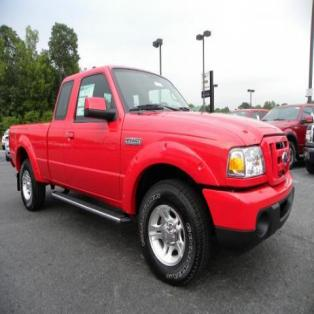Auto: (8, 64, 294, 290)
